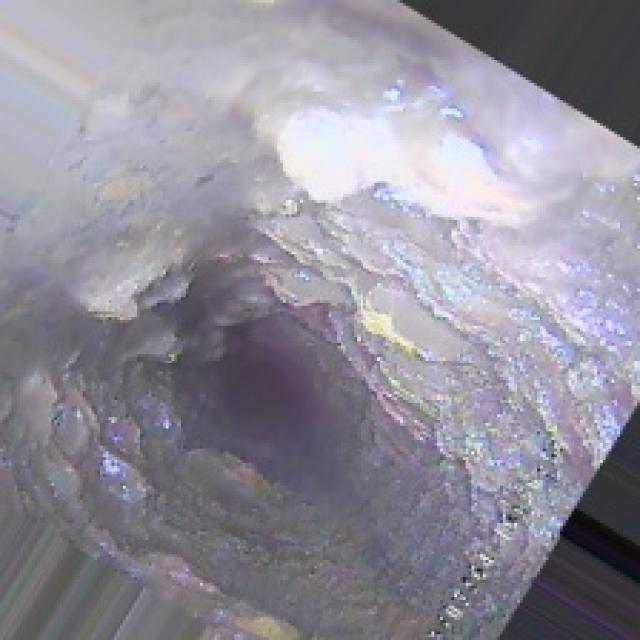encrustation: (77, 123, 594, 417)
